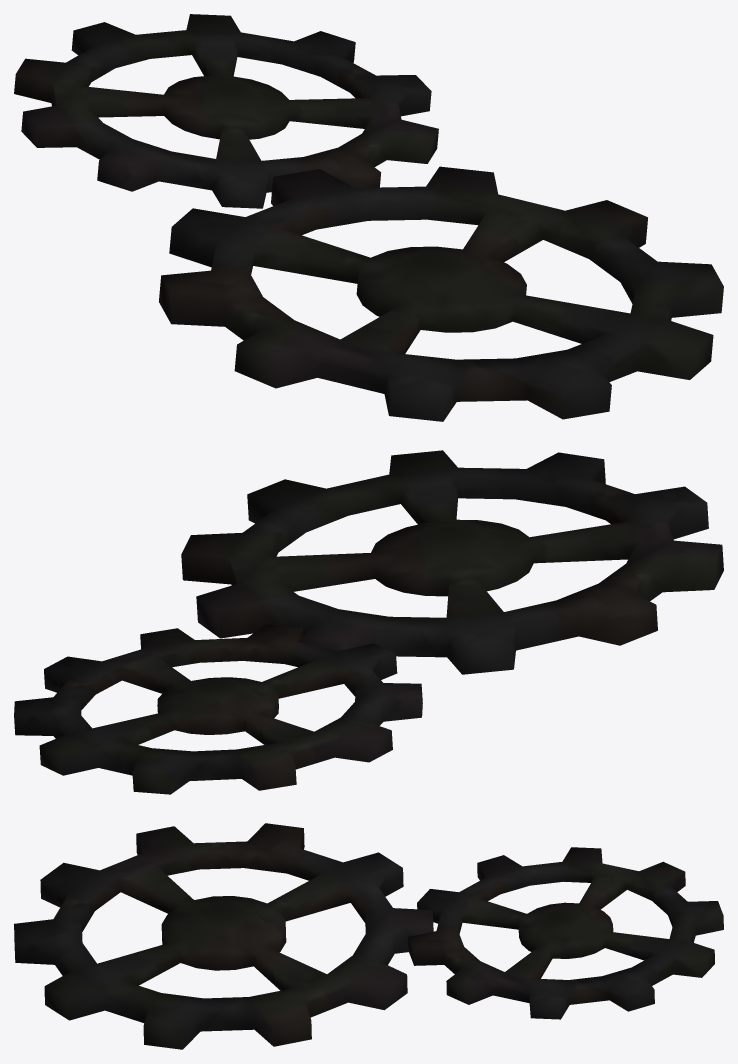
File: map001_06.FBX
The picture shows the model from 3 angles, top to bottom: view 1: azimuth 30°, elevation 25°; view 2: azimuth 150°, elevation 25°; view 3: azimuth 270°, elevation 25°; orthographic projection. The views are drawn at different scales.
Parts seen in each view (by area): view 1: map001_06; view 2: map001_06; view 3: map001_06.
Part boxes in pixels (bbox=[...]): map001_06: bbox=[14, 14, 723, 421]; map001_06: bbox=[14, 450, 723, 794]; map001_06: bbox=[14, 823, 723, 1049].
Size of the model in its own units: 758 by 108 by 1291.
1 material, 1 textured.
